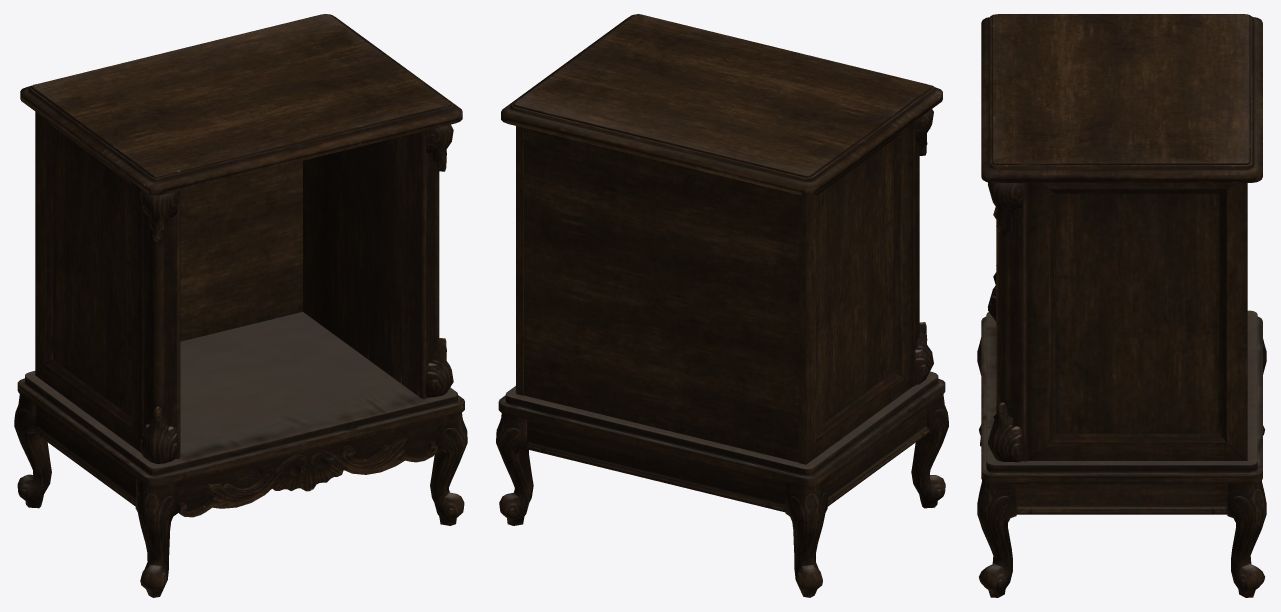
The model's file is nightstand-ph-classic.glb.
3 renders of one model, left to right at view 1: azimuth 30°, elevation 25°; view 2: azimuth 150°, elevation 25°; view 3: azimuth 270°, elevation 25°, orthographic. The views are drawn at different scales.
Visible parts, largest first — view 1: ClassicNightstand_01; view 2: ClassicNightstand_01; view 3: ClassicNightstand_01.
Part boxes in pixels (<box>): ClassicNightstand_01: <box>14,14,467,597</box>; ClassicNightstand_01: <box>496,14,948,597</box>; ClassicNightstand_01: <box>977,14,1266,597</box>.
Bounding box in the file's own units: 0.5678 × 0.7 × 0.4242.
1 material, 1 textured.
